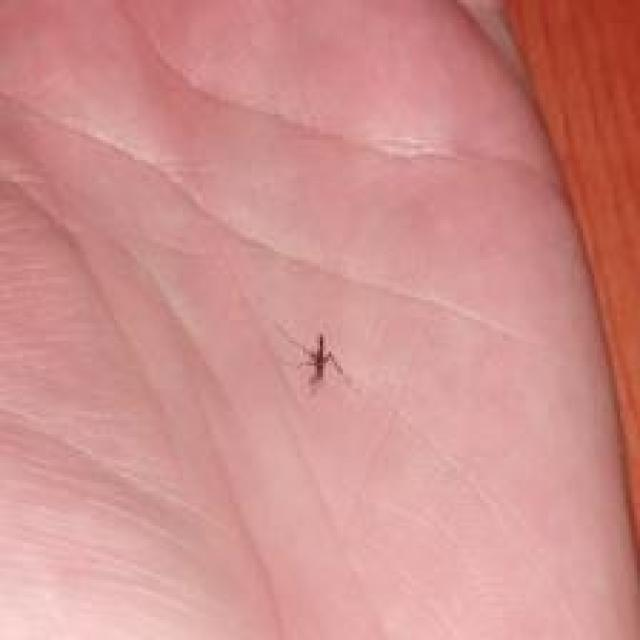Aedes albopictus: (296, 331, 344, 386)
